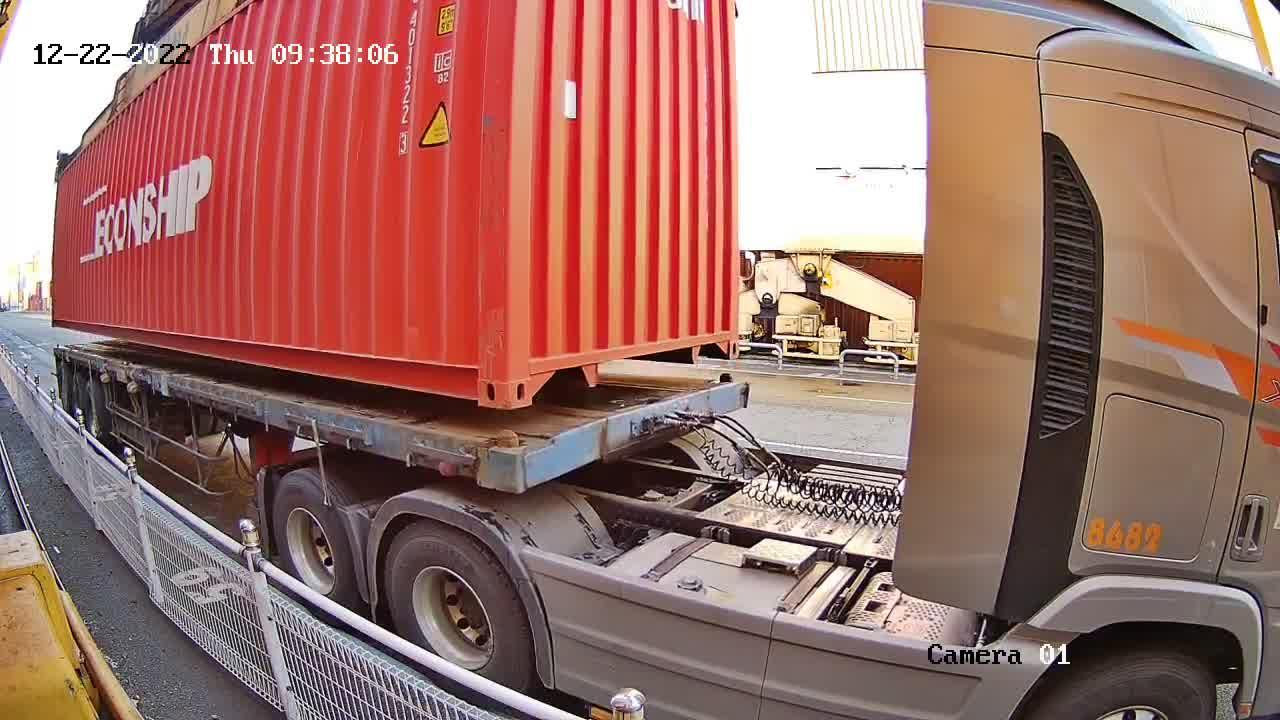Chassis: (479, 380, 747, 494)
Cone: (482, 427, 523, 490), (715, 371, 736, 384)
Hole_L: (510, 340, 557, 410)
Hole_R: (449, 334, 506, 409), (707, 314, 740, 362)
Tire: (386, 524, 531, 708), (271, 475, 351, 612)
